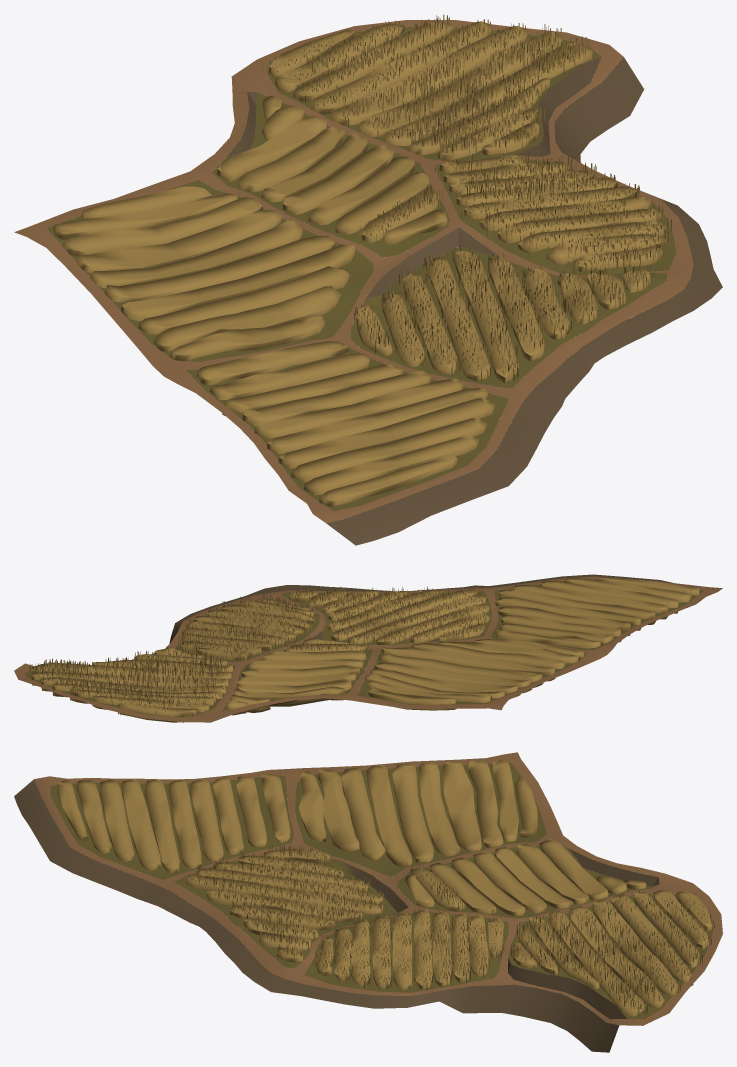
The model's file is farms.glb.
3 renders of one model, top to bottom at view 1: azimuth 30°, elevation 25°; view 2: azimuth 150°, elevation 25°; view 3: azimuth 270°, elevation 25°, orthographic. The views are drawn at different scales.
Visible parts, largest first — view 1: floor_farm, crop-36, crop-57, crop-54, crop-55, crop-52, crop-35, crop-58, crop-24, crop-53, crop-56, crop-37 (+47 smaller); view 2: floor_farm, crop-54, crop-55, crop-16, crop-34, crop-17, crop-35, crop-56, crop-25, crop-24, crop-53, crop-26 (+45 smaller); view 3: floor_farm, crop-35, crop-36, crop-57, crop-55, crop-34, crop-54, crop-16, crop-56, crop-53, crop-24, crop-52 (+45 smaller).
Boxes of the visible parts, <box> form: floor_farm: <box>14,20,722,545</box>; crop-36: <box>331,26,528,125</box>; crop-57: <box>76,209,281,272</box>; crop-54: <box>120,244,354,321</box>; crop-55: <box>104,235,335,302</box>; crop-52: <box>154,286,340,351</box>; crop-35: <box>358,32,562,136</box>; crop-58: <box>62,197,262,256</box>; crop-24: <box>278,398,495,468</box>; crop-53: <box>138,266,349,334</box>; crop-56: <box>90,220,302,288</box>; crop-37: <box>310,21,491,114</box>; floor_farm: <box>14,574,722,722</box>; crop-54: <box>381,647,555,681</box>; crop-55: <box>378,652,543,688</box>; crop-16: <box>331,590,479,640</box>; crop-34: <box>32,662,231,679</box>; crop-17: <box>348,595,486,643</box>; crop-35: <box>31,672,228,687</box>; crop-56: <box>374,662,532,693</box>; crop-25: <box>498,589,655,624</box>; crop-24: <box>513,585,668,619</box>; crop-53: <box>412,643,565,668</box>; crop-26: <box>495,597,641,630</box>; floor_farm: <box>14,752,722,1052</box>; crop-35: <box>569,906,664,1008</box>; crop-36: <box>592,899,679,995</box>; crop-57: <box>443,761,481,851</box>; crop-55: <box>392,763,433,862</box>; crop-34: <box>549,911,645,1016</box>; crop-54: <box>366,765,412,866</box>; crop-16: <box>184,876,383,914</box>; crop-56: <box>419,762,461,856</box>; crop-53: <box>341,767,385,860</box>; crop-24: <box>121,779,160,870</box>; crop-52: <box>317,769,359,852</box>.
Size of the model in its own units: 426 by 50.09 by 501.
